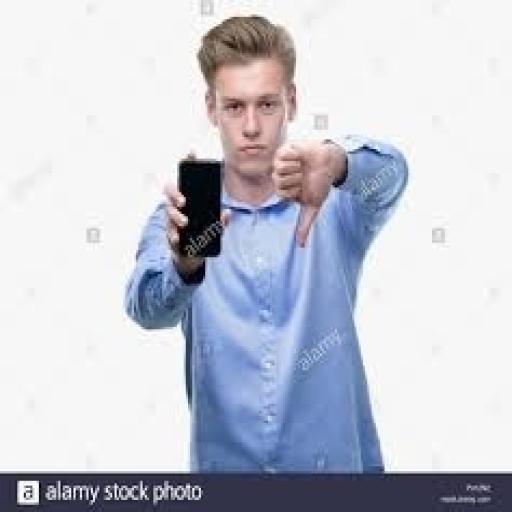texting: (121, 12, 410, 474)
